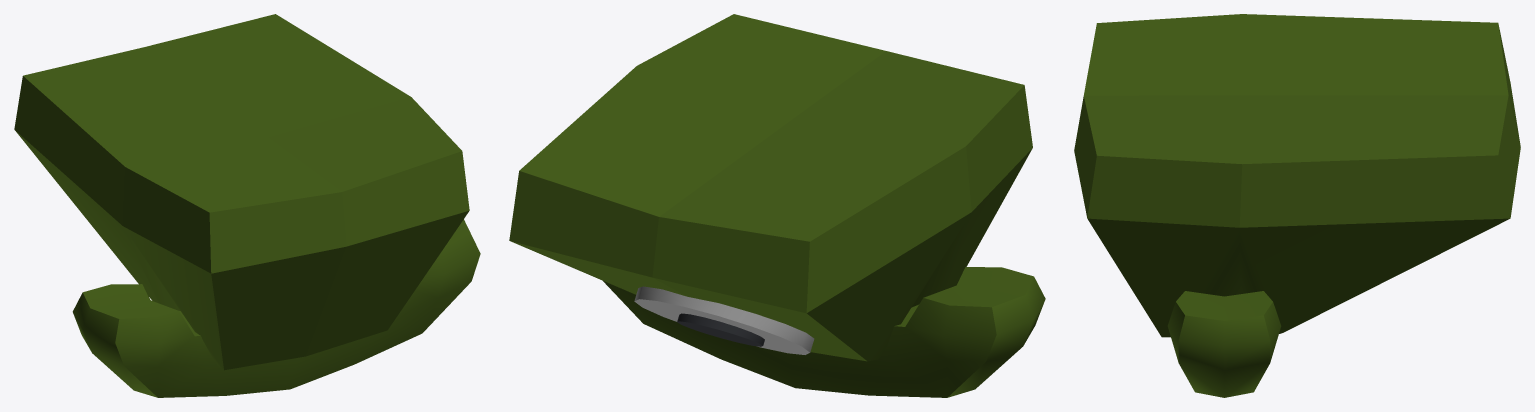
File: Telehpone.FBX
3 renders of one model, left to right at view 1: azimuth 30°, elevation 25°; view 2: azimuth 150°, elevation 25°; view 3: azimuth 270°, elevation 25°, orthographic. The views are drawn at different scales.
Parts seen in each view (by area): view 1: Telephone_01; view 2: Telephone_01; view 3: Telephone_01.
Boxes of the visible parts, x1=… form: Telephone_01: x1=14, y1=14, x2=480, y2=397; Telephone_01: x1=509, y1=14, x2=1045, y2=397; Telephone_01: x1=1074, y1=14, x2=1520, y2=397.
Size of the model in its own units: 30.07 by 27.97 by 17.93.
